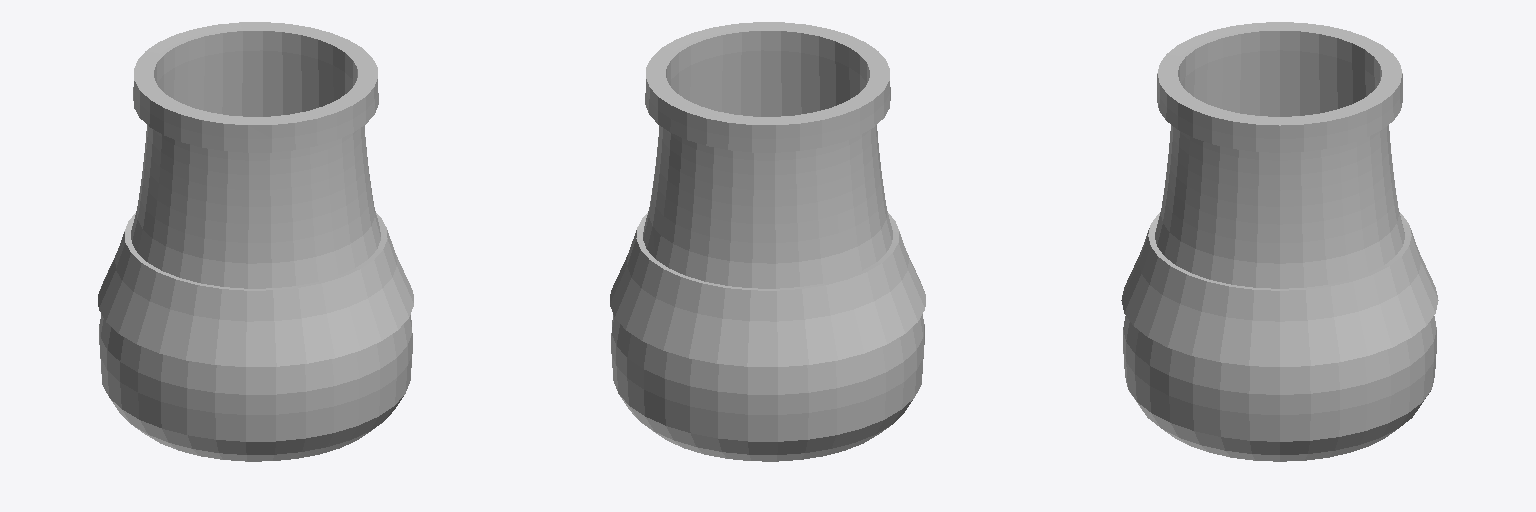
File: cannon_8.obj
The picture shows the model from 3 angles: view 1: azimuth 30°, elevation 25°; view 2: azimuth 150°, elevation 25°; view 3: azimuth 270°, elevation 25°; orthographic projection.
Parts seen in each view (by area): view 1: 炮管.003_柱体.009; view 2: 炮管.003_柱体.009; view 3: 炮管.003_柱体.009.
Boxes of the visible parts, box(x1,y1,x2,y2) form: 炮管.003_柱体.009: box(98, 22, 413, 461); 炮管.003_柱体.009: box(610, 22, 925, 461); 炮管.003_柱体.009: box(1121, 22, 1438, 461).
Bounding box in the file's own units: 0.9319 × 1.18 × 0.9319.